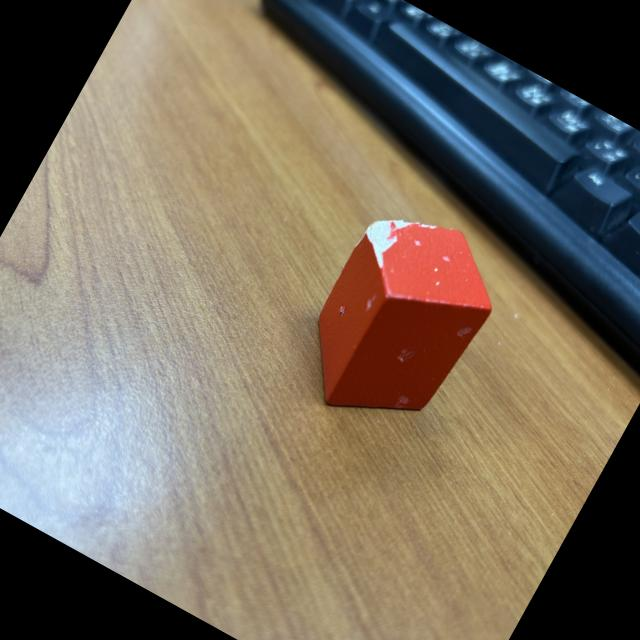broken: (279, 188, 521, 454)
